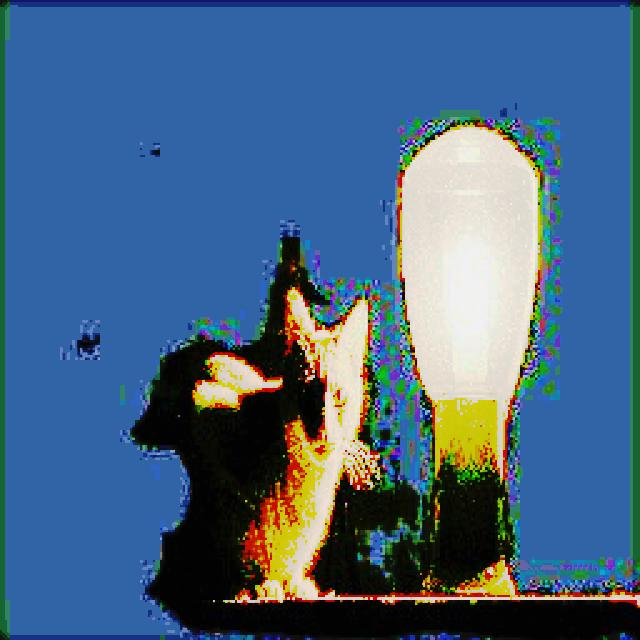cat: (167, 272, 379, 600)
